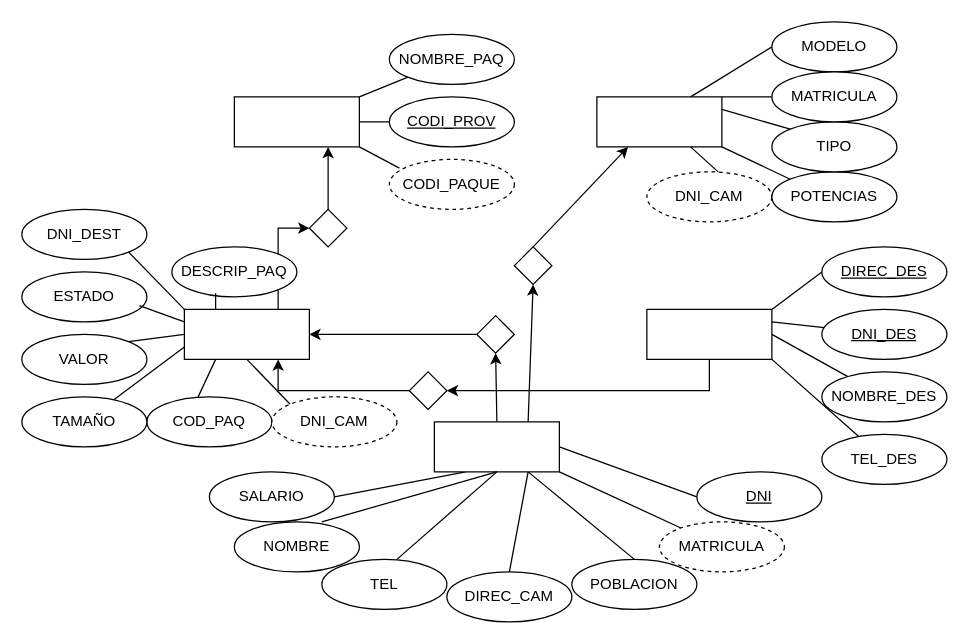
This 969x644 diagram has some shape labels left out. Here are the shapes that lost their labels. From the top down, the box of each, then its label:
(233, 96, 359, 147): PROVINCIA
(596, 96, 722, 147): CAMIONES
(183, 308, 309, 359): PAQUETES
(646, 308, 772, 359): DESTINATARIO
(433, 421, 559, 472): CAMIONERO
